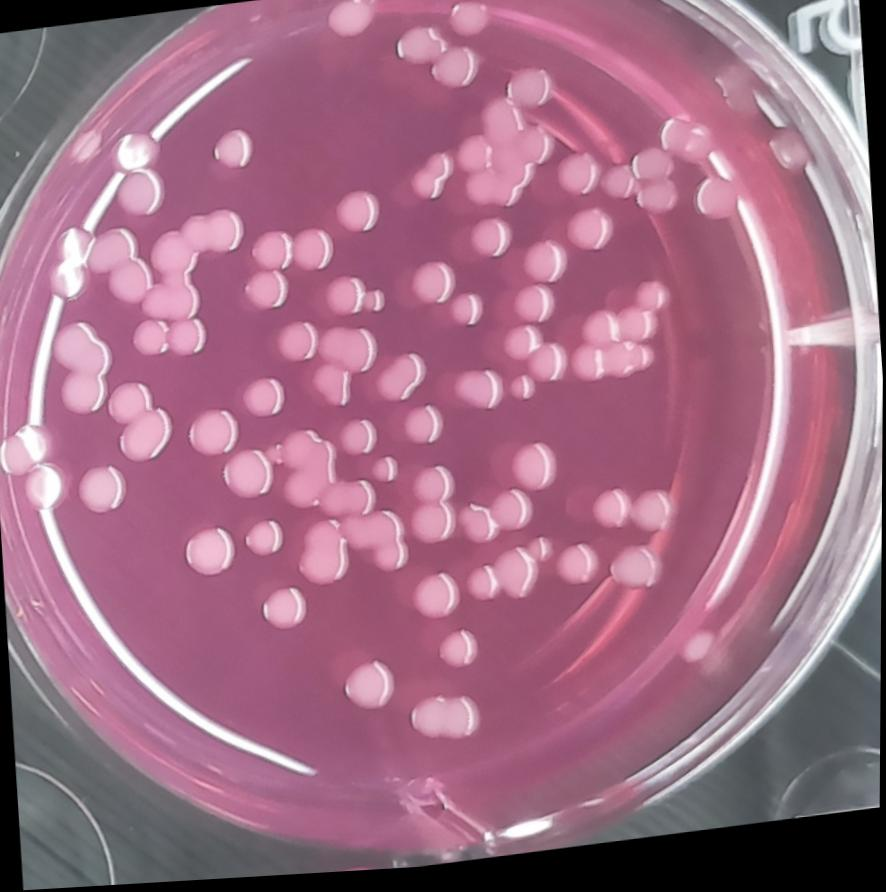bcereus: (389, 20, 485, 106), (174, 518, 243, 584), (399, 568, 469, 631), (547, 541, 607, 599), (288, 227, 342, 281)
